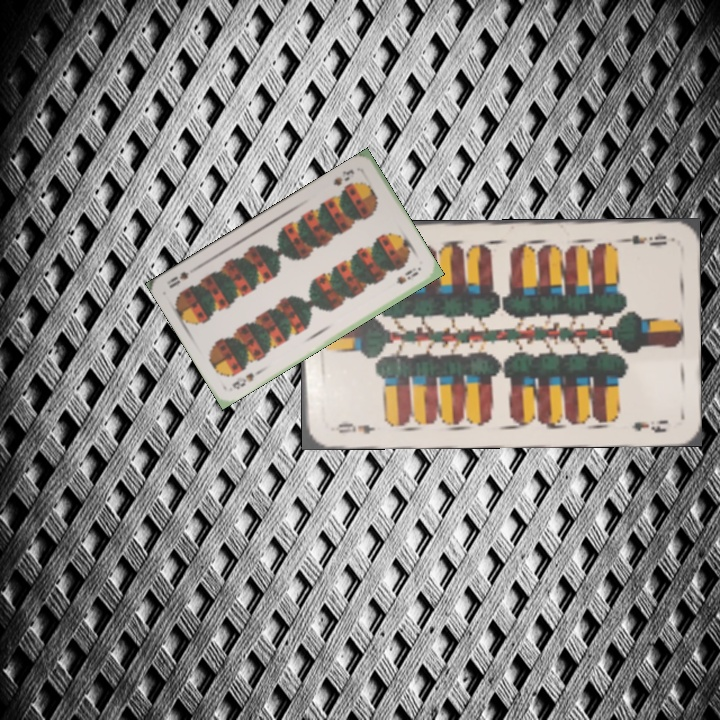E9: (615, 229, 670, 248), (326, 419, 377, 437)
S8: (228, 366, 264, 392), (329, 165, 357, 188)
